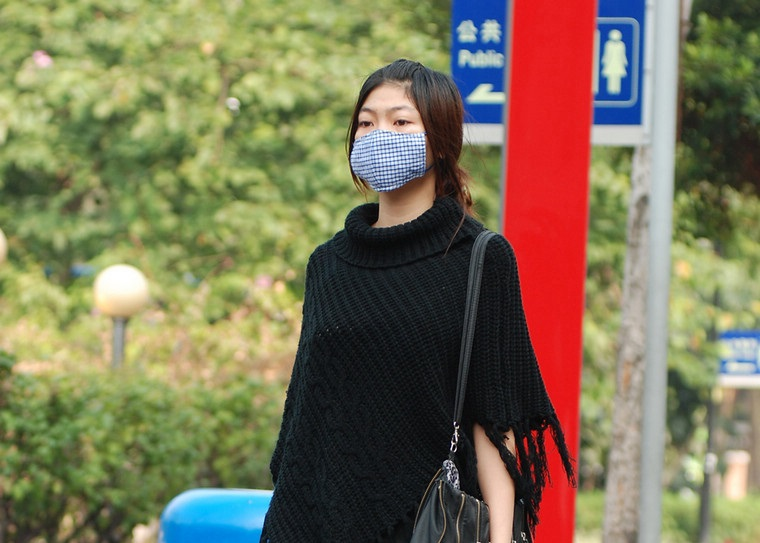face_mask: (350, 81, 433, 190)
